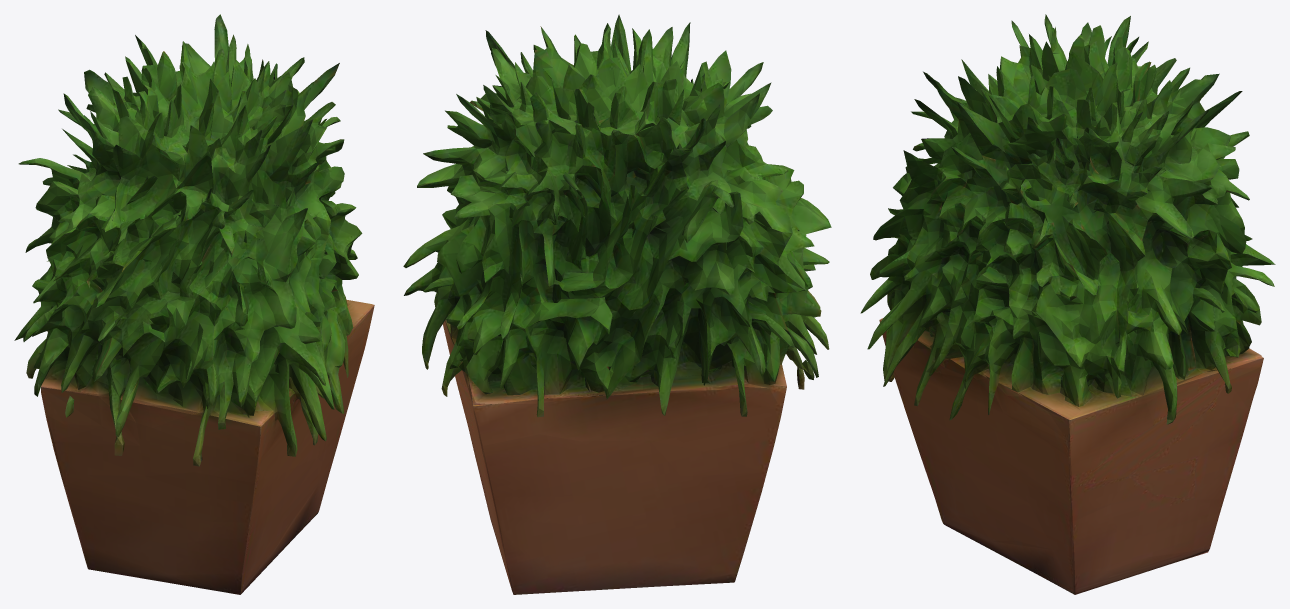
The model's file is large_potted_plant_on_floor_000.glb.
3 renders of one model, left to right at view 1: azimuth 30°, elevation 25°; view 2: azimuth 150°, elevation 25°; view 3: azimuth 270°, elevation 25°, orthographic. The views are drawn at different scales.
Parts seen in each view (by area): view 1: phase2_final_large_potted_plant_on_floor_000.obj; view 2: phase2_final_large_potted_plant_on_floor_000.obj; view 3: phase2_final_large_potted_plant_on_floor_000.obj.
Boxes of the visible parts, <box> form: phase2_final_large_potted_plant_on_floor_000.obj: <box>14,14,374,594</box>; phase2_final_large_potted_plant_on_floor_000.obj: <box>403,14,831,594</box>; phase2_final_large_potted_plant_on_floor_000.obj: <box>860,14,1275,594</box>.
Size of the model in its own units: 0.2569 by 0.3245 by 0.2568.
Materials: 1 (1 with a texture image).
